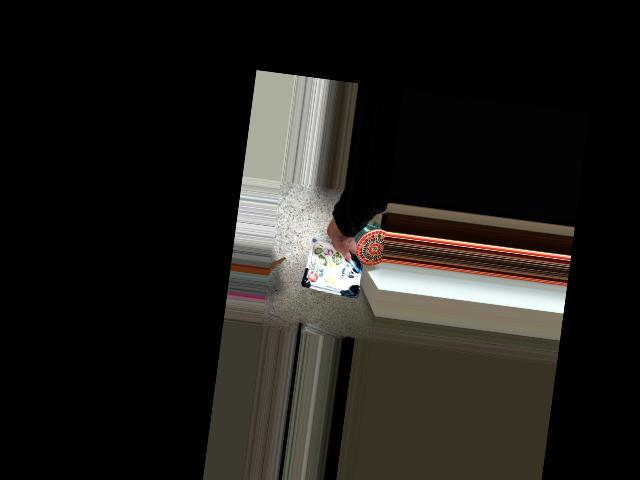cheese: (302, 220, 367, 286)
